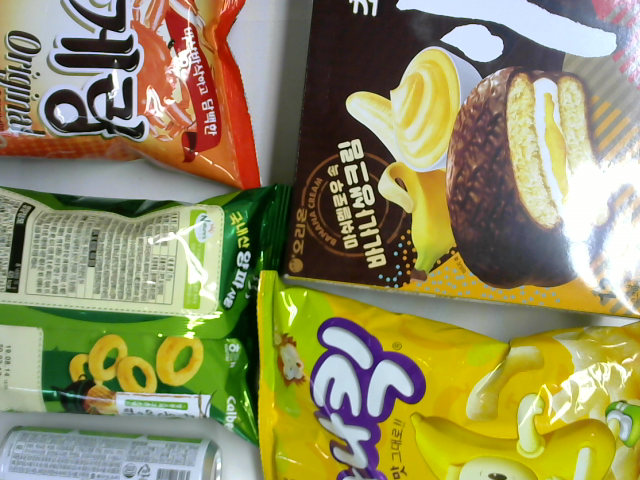Banana_Kick: (251, 265, 638, 480)
Choco_Pie_Banana: (276, 1, 640, 324)
Crabrang: (1, 2, 263, 196)
Demisoda_Apple_Can_250ml: (1, 426, 224, 479)
Grilled_Onions: (1, 180, 292, 451)
